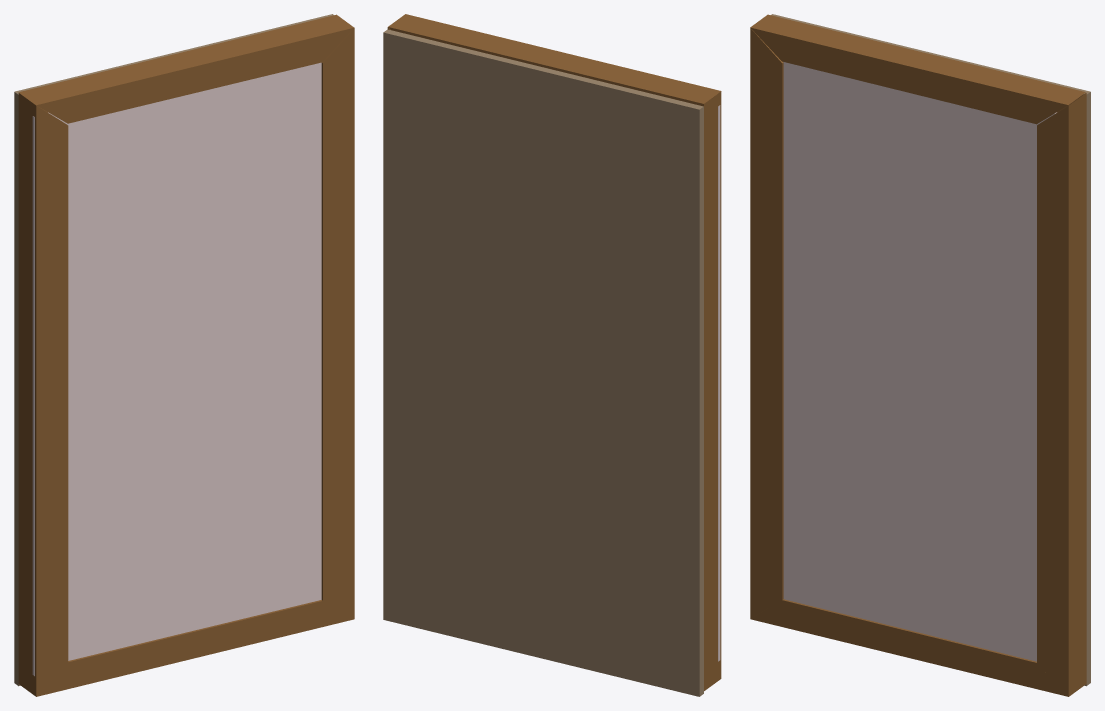
File: Galton.fbx
The picture shows the model from 3 angles, left to right: view 1: azimuth 30°, elevation 25°; view 2: azimuth 150°, elevation 25°; view 3: azimuth 330°, elevation 25°; orthographic projection.
Visible parts, largest first — view 1: Window, Frame, Cube; view 2: Cube, Frame, Window; view 3: Window, Frame, Cube.
Part boxes in pixels (x1,y1,x2,y2): Window: [32, 62, 321, 675]; Frame: [18, 14, 354, 696]; Cube: [14, 14, 333, 686]; Cube: [383, 29, 703, 696]; Frame: [387, 14, 721, 690]; Window: [718, 105, 720, 661]; Window: [783, 62, 1056, 661]; Frame: [750, 14, 1086, 696]; Cube: [771, 14, 1090, 686].
Size of the model in its own units: 57.04 by 102 by 6.84.
